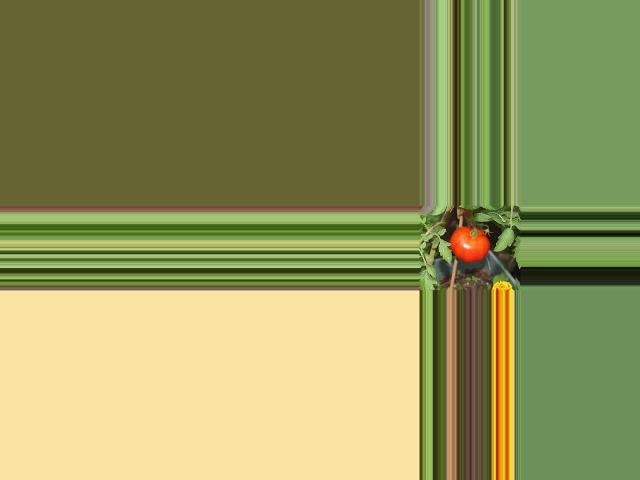tomato: (448, 226, 489, 262)
